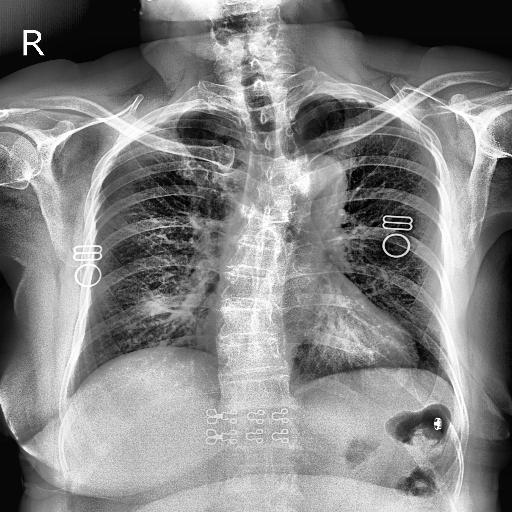0- Aortic enlargement: (273, 154, 347, 224), (288, 150, 348, 232), (293, 154, 345, 219)
11- Pleural thickening: (344, 86, 418, 132), (115, 105, 175, 152), (314, 92, 384, 104), (174, 105, 222, 111)
13- Pulmonary fibrosis: (150, 301, 192, 316)
3- Cardiomegaly: (192, 305, 419, 370), (199, 303, 418, 369), (196, 308, 419, 371)
9- Other lesion: (218, 94, 294, 344), (228, 96, 303, 268)
